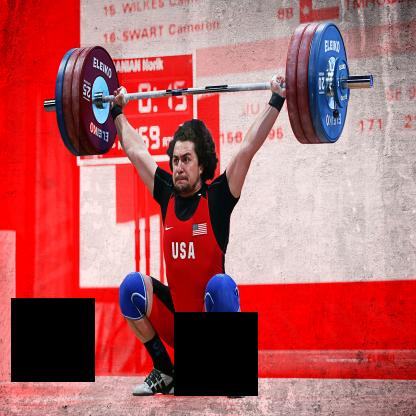barbell: (80, 45, 123, 156), (317, 23, 349, 143)
